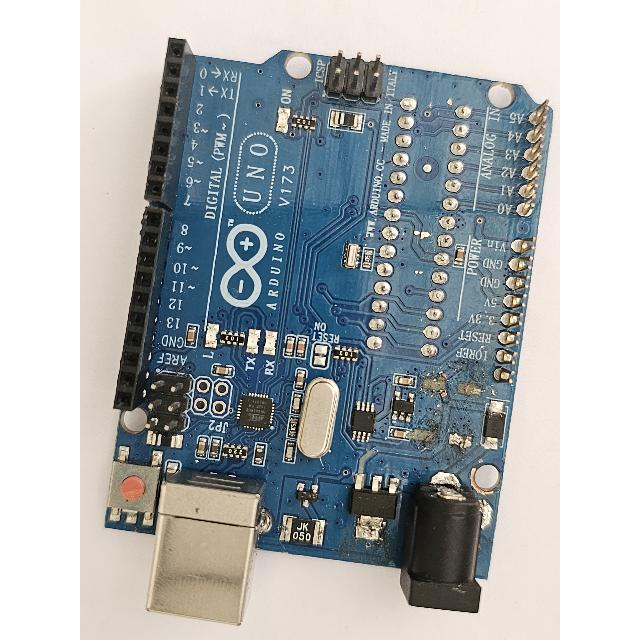missing_analog_pins: (489, 87, 555, 396)
missing_atmega: (365, 94, 477, 364)
missing_capacitors: (412, 370, 486, 456)
